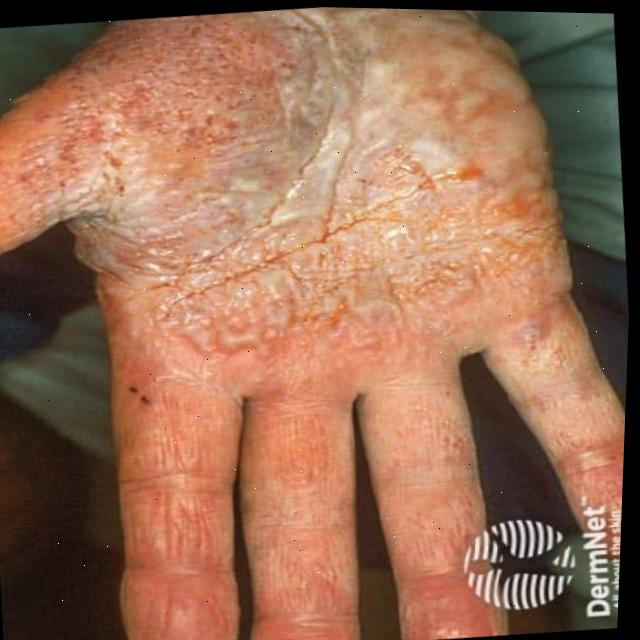Eczema: (62, 2, 544, 534)
